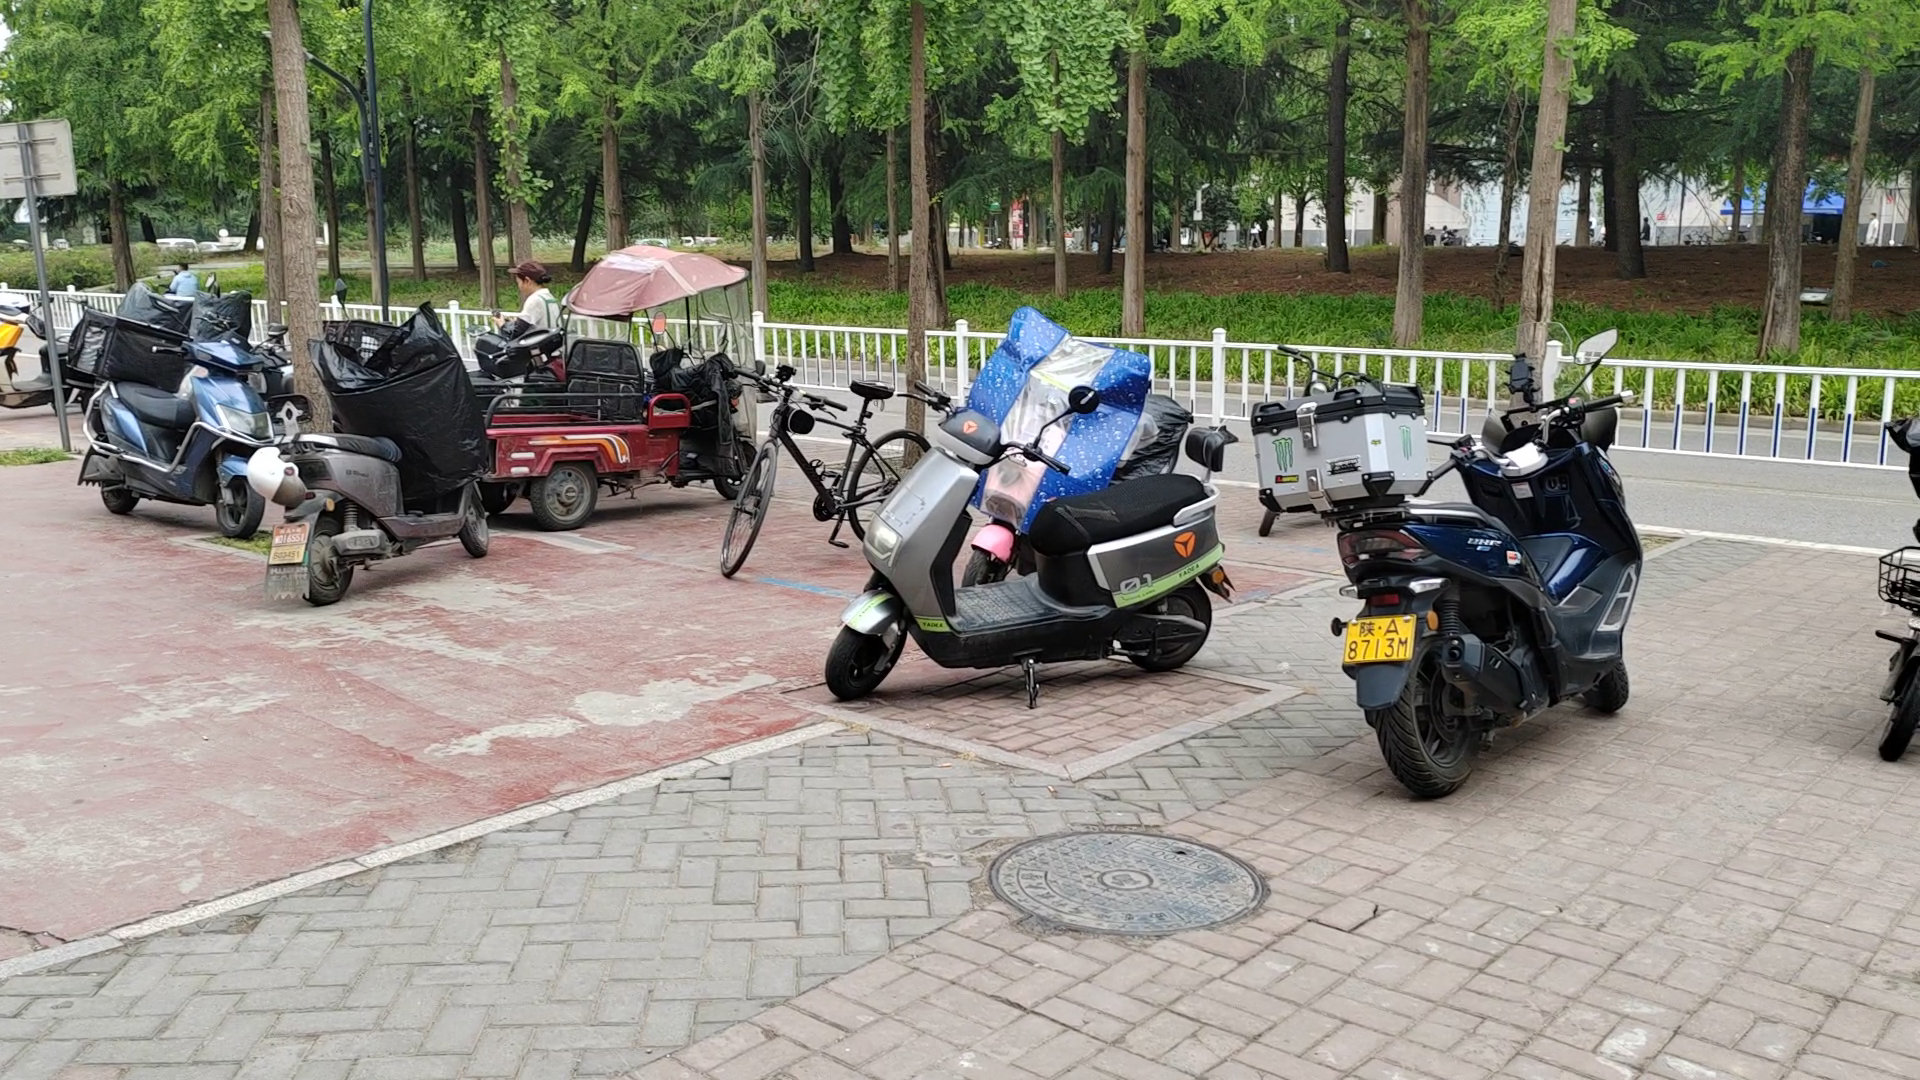others: (1265, 340, 1689, 778), (862, 340, 1240, 692), (243, 372, 529, 603), (65, 286, 274, 531), (720, 357, 935, 553)
